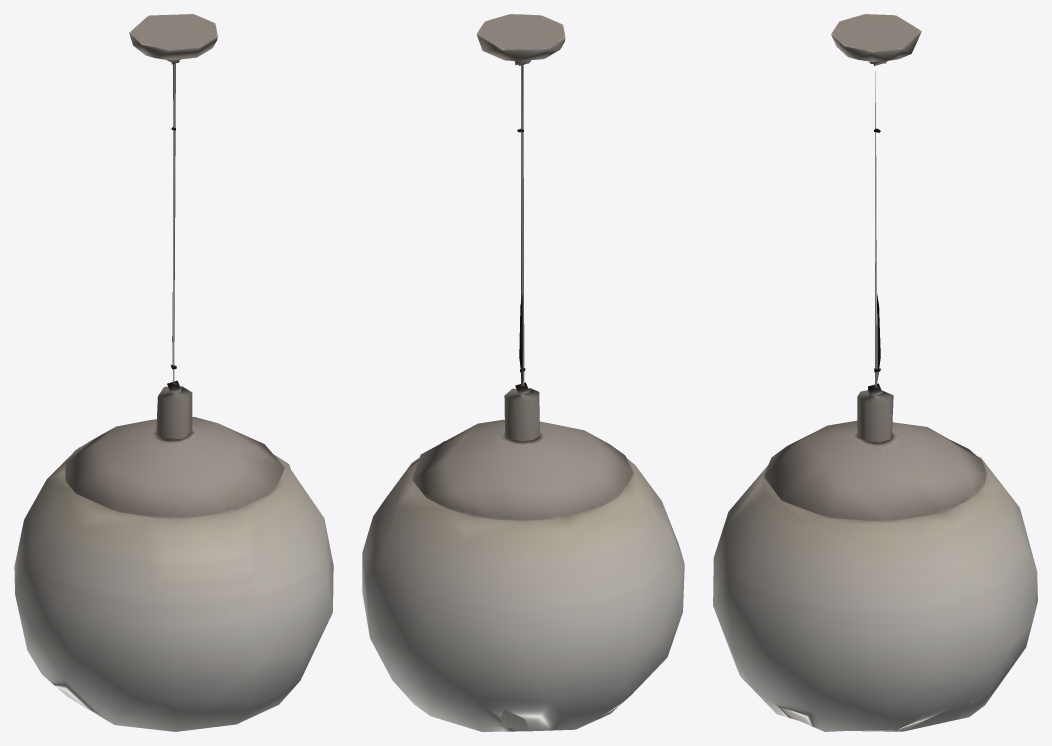
The model's file is modern_ceiling_lamp_01.glb.
3 views of the same model, side by side, from view 1: azimuth 30°, elevation 25°; view 2: azimuth 150°, elevation 25°; view 3: azimuth 270°, elevation 25° (orthographic).
Visible parts, largest first — view 1: modern_ceiling_lamp_01; view 2: modern_ceiling_lamp_01; view 3: modern_ceiling_lamp_01.
Boxes of the visible parts, <box> form: modern_ceiling_lamp_01: <box>14,14,333,731</box>; modern_ceiling_lamp_01: <box>362,14,684,731</box>; modern_ceiling_lamp_01: <box>713,14,1037,731</box>.
Size of the model in its own units: 0.4298 by 0.9512 by 0.428.
Materials: 2 (2 with a texture image).
